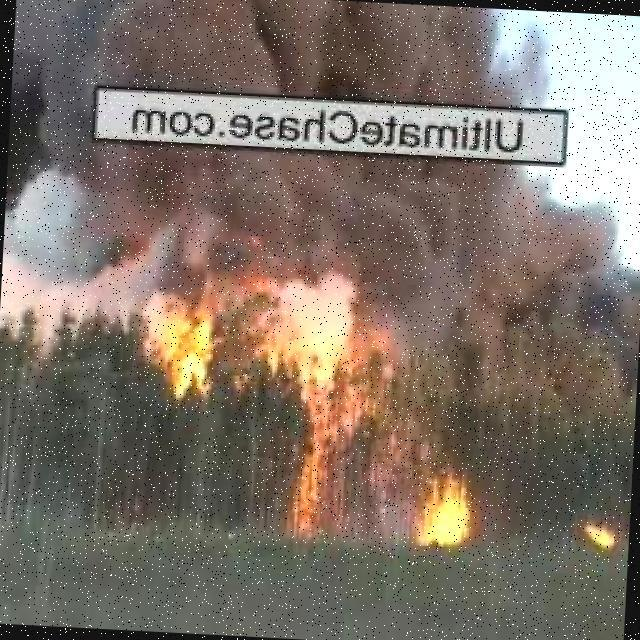Fire: (281, 397, 344, 540), (152, 302, 219, 402), (403, 469, 475, 548), (579, 521, 615, 558)
